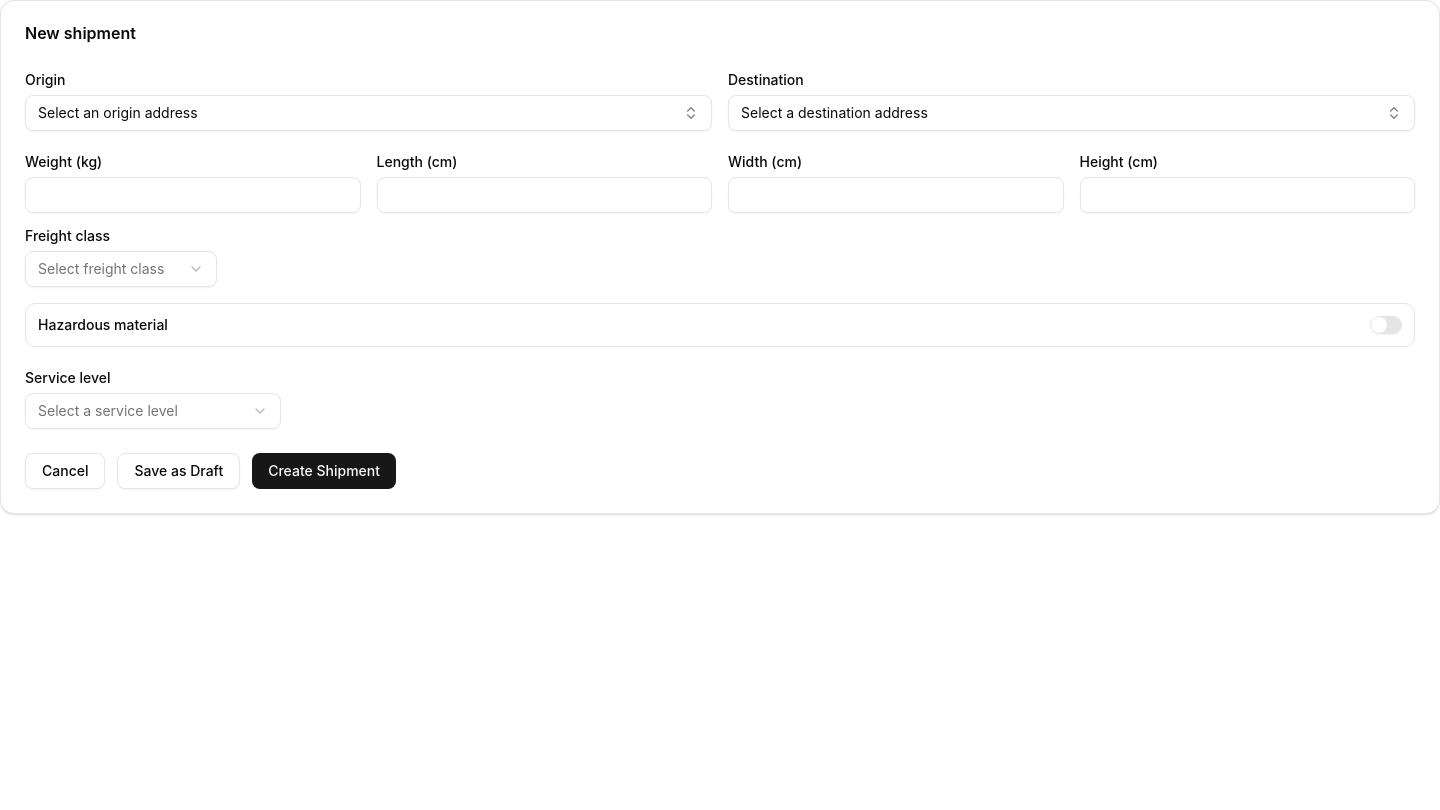
it: NewShipmentPage › reveals hazmat fields and blocks submit until they are filled in
This screenshot has width=1440, height=810.
Step 1. Click the switch named "hazardous material" → click(1386, 325), box [1370,316,1402,334]
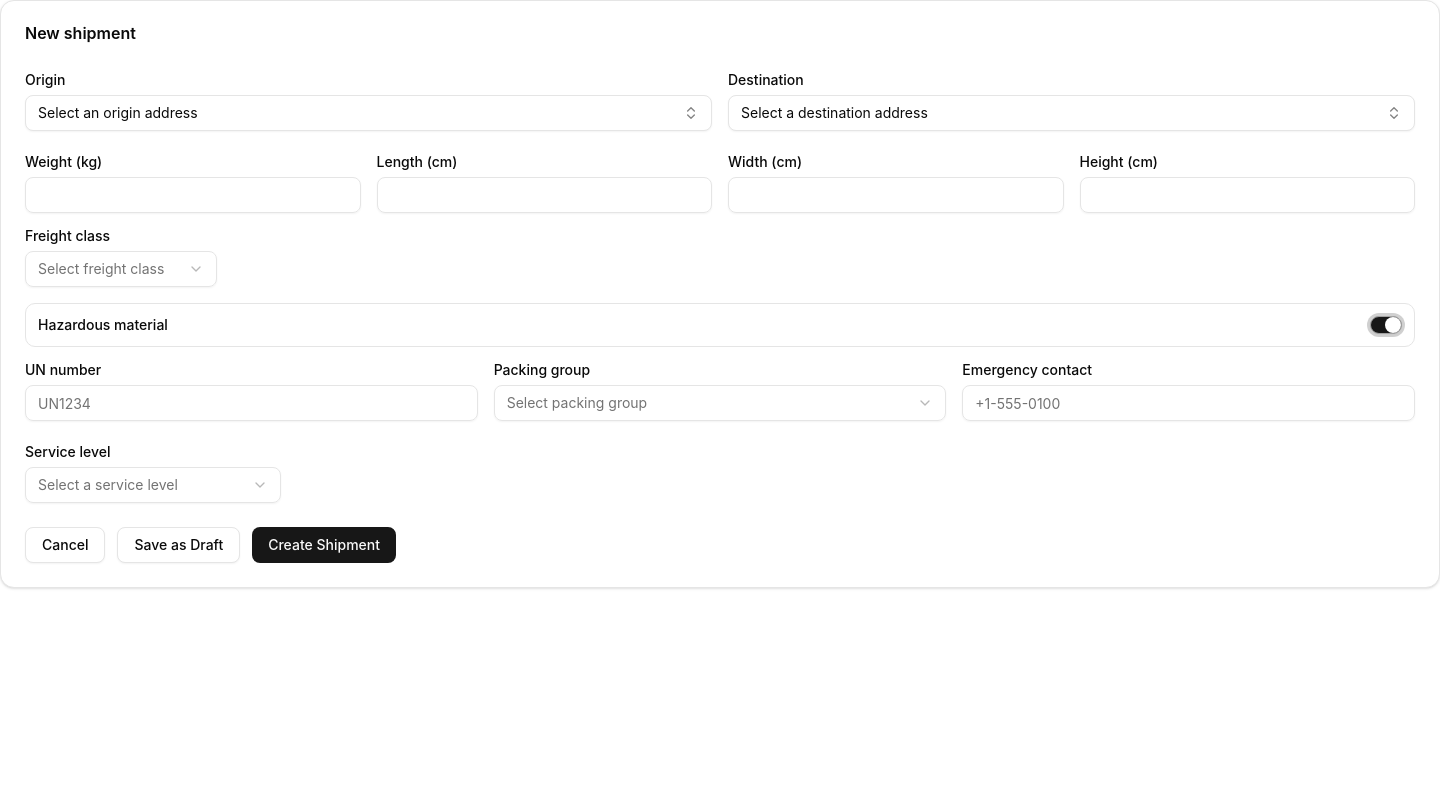
Expected: the field labelled "UN number" is shown, [25,385,478,421]
Step 2. Click the button "Create Shipment" → click(324, 545), box [252,527,396,563]
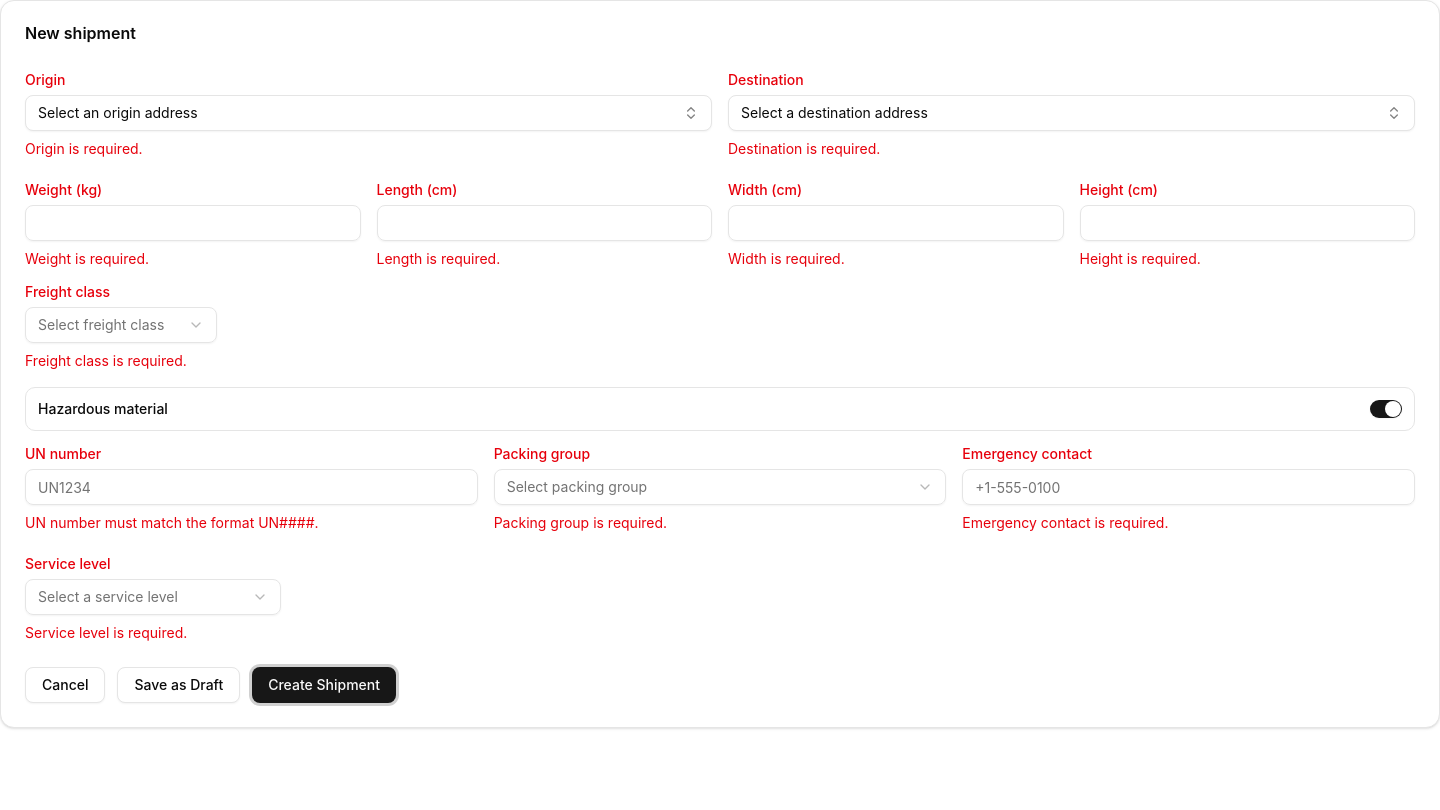
Expected: the text "UN number must match the format UN####." is shown, [25,514,319,531]
